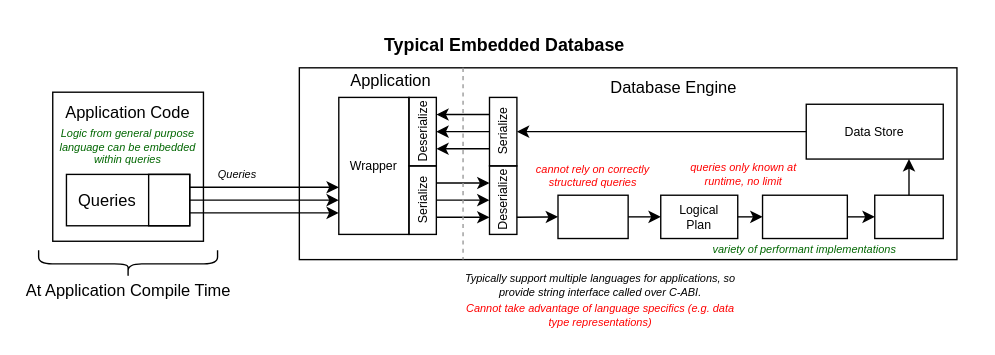
The diagram is 995 pixels wide and 355 high, and some of its shapes have lost their labels. The centre of each missing label's shape, as x and y in pixels:
"Kernel" goes at pixel 908 216.
"Lib" goes at pixel 168 199.
"Physical Plan" goes at pixel 804 216.
"Semantic Analysis" goes at pixel 592 216.
